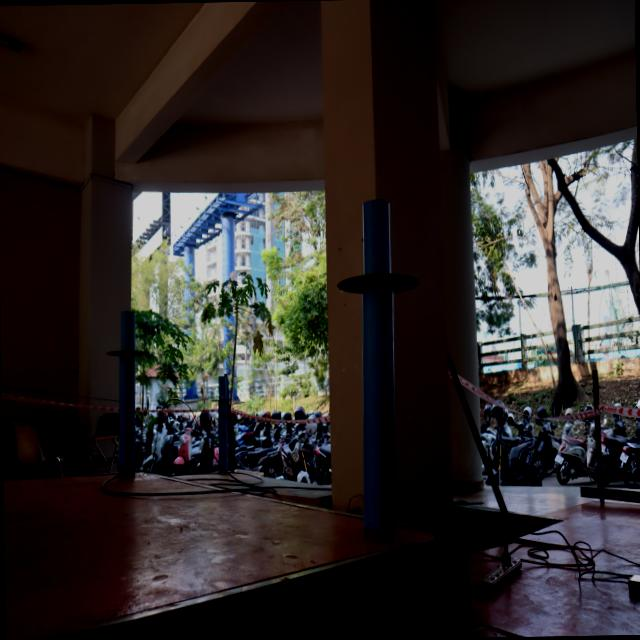pole: (326, 198, 419, 347), (105, 312, 148, 380), (208, 371, 234, 412)
